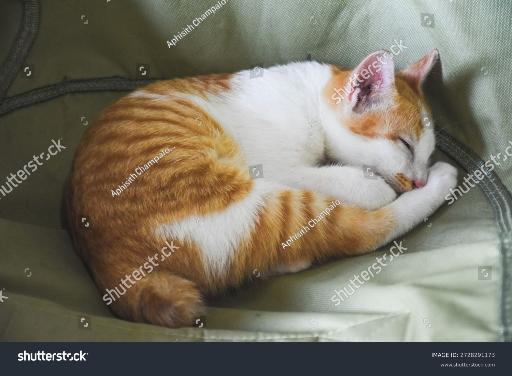cat_sleeping: (68, 49, 457, 328)
